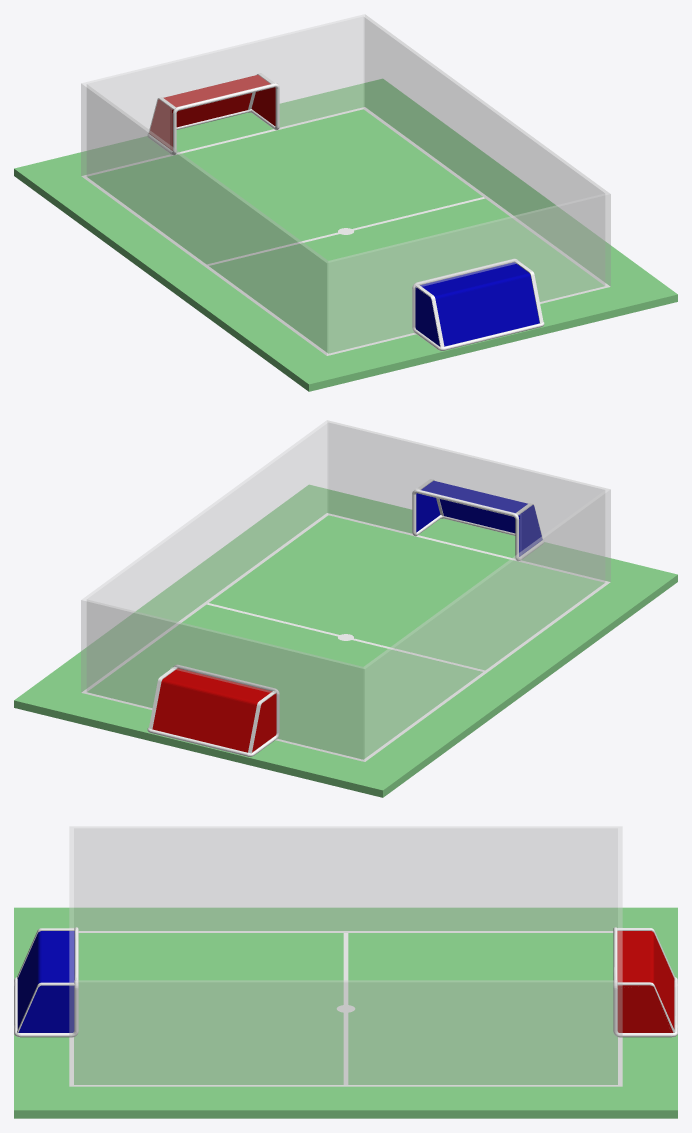
Rendered from field.glb.
The picture shows the model from 3 angles, top to bottom: view 1: azimuth 30°, elevation 25°; view 2: azimuth 150°, elevation 25°; view 3: azimuth 270°, elevation 25°; orthographic projection. The views are drawn at different scales.
Parts seen in each view (by area): view 1: obj_0, obj_0.001, obj_0.002; view 2: obj_0, obj_0.002, obj_0.001; view 3: obj_0, obj_0.002, obj_0.001.
Boxes of the visible parts, <box> form: obj_0: <box>14,14,677,391</box>; obj_0.001: <box>412,258,544,350</box>; obj_0.002: <box>148,73,279,155</box>; obj_0: <box>14,420,677,797</box>; obj_0.002: <box>147,664,279,756</box>; obj_0.001: <box>412,479,543,561</box>; obj_0: <box>14,826,677,1118</box>; obj_0.002: <box>613,927,677,1037</box>; obj_0.001: <box>14,927,78,1037</box>.
Size of the model in its own units: 52 by 13.5 by 72.
